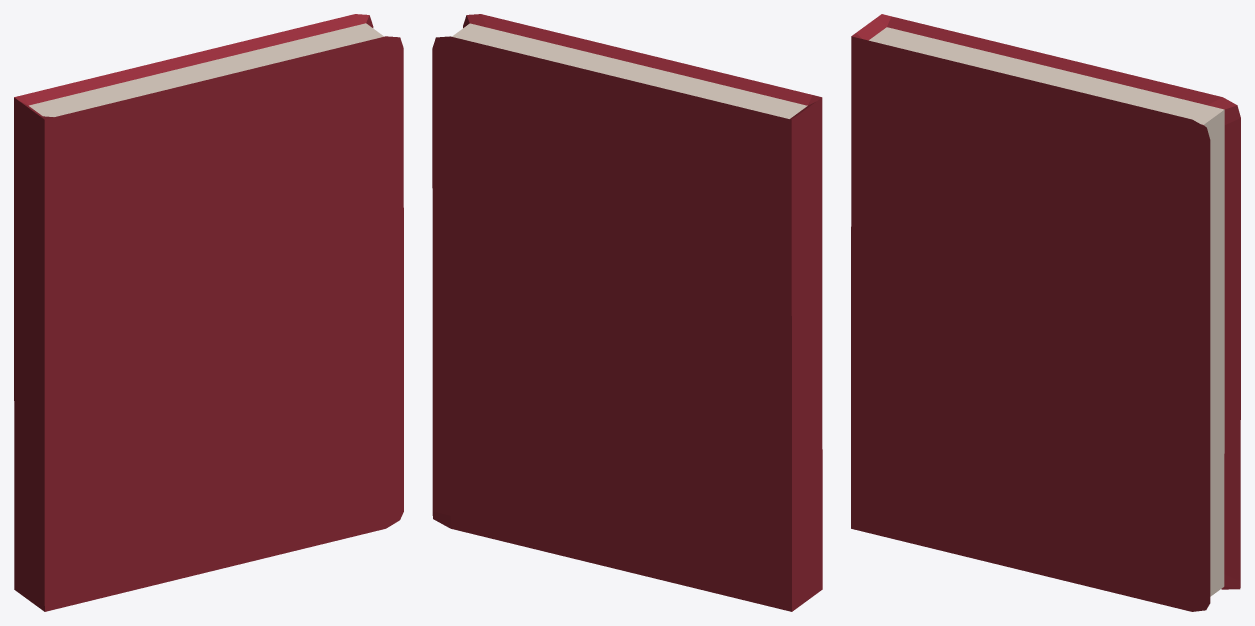
The model's file is 2021book.fbx.
3 renders of one model, left to right at view 1: azimuth 30°, elevation 25°; view 2: azimuth 150°, elevation 25°; view 3: azimuth 330°, elevation 25°, orthographic.
Visible parts, largest first — view 1: Cube.009; view 2: Cube.009; view 3: Cube.009.
Boxes of the visible parts, x1,y1,x2,y2 form: Cube.009: (14, 14, 403, 611); Cube.009: (432, 14, 822, 611); Cube.009: (851, 14, 1240, 611).
Bounding box in the file's own units: 52.95 × 69.36 × 7.88.
